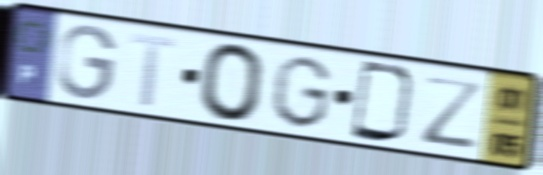D: (347, 57, 419, 147)
G: (266, 52, 335, 131), (55, 23, 121, 103)
O: (198, 40, 268, 125)
T: (128, 29, 179, 111)
Z: (421, 73, 488, 153)
